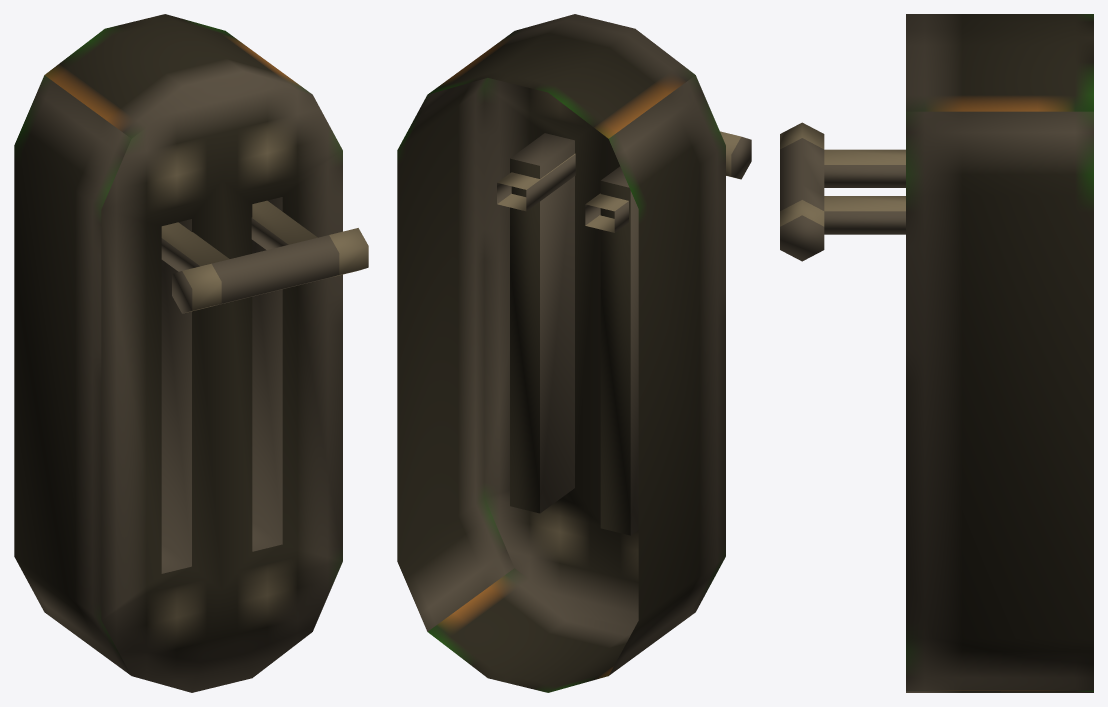
File: Level.fbx
3 views of the same model, side by side, from view 1: azimuth 30°, elevation 25°; view 2: azimuth 150°, elevation 25°; view 3: azimuth 270°, elevation 25° (orthographic). The views are drawn at different scales.
Visible parts, largest first — view 1: Frame, Level; view 2: Frame, Level; view 3: Frame, Level.
Boxes of the visible parts, x1,y1,x2,y2 form: Frame: [14, 14, 342, 692]; Level: [161, 200, 368, 313]; Frame: [397, 14, 725, 692]; Level: [497, 131, 751, 232]; Frame: [906, 14, 1093, 692]; Level: [780, 122, 905, 261].
Size of the model in its own units: 25 by 59.38 by 26.09.
